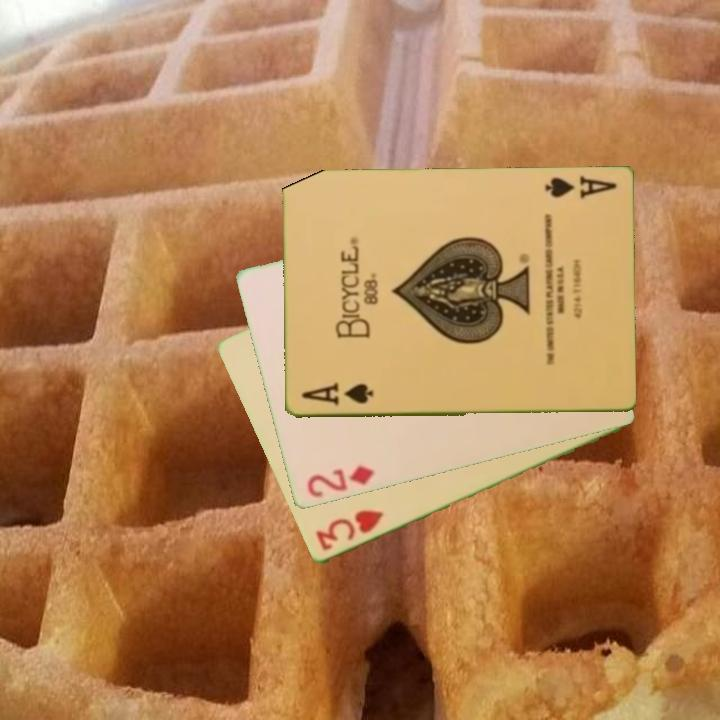2d: (303, 462, 378, 501)
3h: (312, 506, 387, 554)
As: (297, 379, 376, 408), (541, 173, 619, 202)
